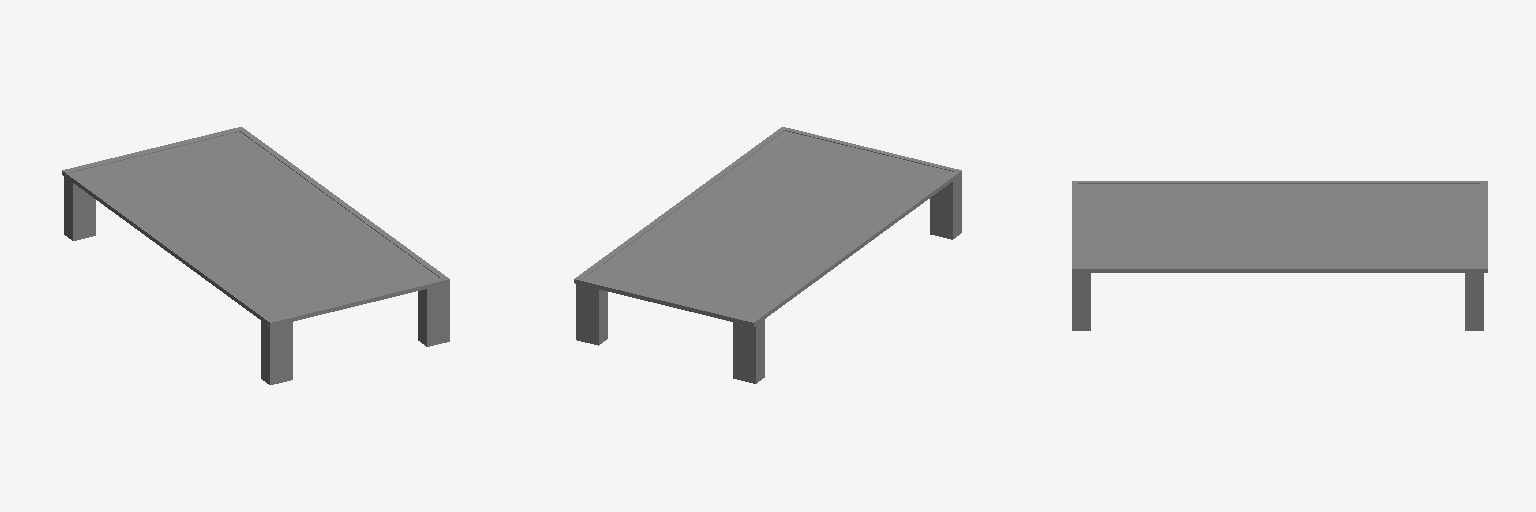
The model's file is BedText.obj.
3 views of the same model, side by side, from view 1: azimuth 30°, elevation 25°; view 2: azimuth 150°, elevation 25°; view 3: azimuth 270°, elevation 25° (orthographic).
Parts seen in each view (by area): view 1: Box005, Box001, Box002, Box004; view 2: Box005, Box004, Box003, Box001; view 3: Box005, Box002, Box003.
Part boxes in pixels (bbox=[...]): Box005: bbox=[62, 127, 449, 326]; Box001: bbox=[261, 320, 292, 384]; Box002: bbox=[418, 283, 449, 346]; Box004: bbox=[64, 176, 95, 240]; Box005: bbox=[574, 127, 961, 326]; Box004: bbox=[733, 319, 764, 383]; Box003: bbox=[576, 284, 607, 345]; Box001: bbox=[930, 175, 961, 239]; Box005: bbox=[1072, 181, 1487, 272]; Box002: bbox=[1072, 272, 1090, 330]; Box003: bbox=[1465, 272, 1483, 330].
Bounding box in the file's own units: 59.13 × 19.62 × 119.